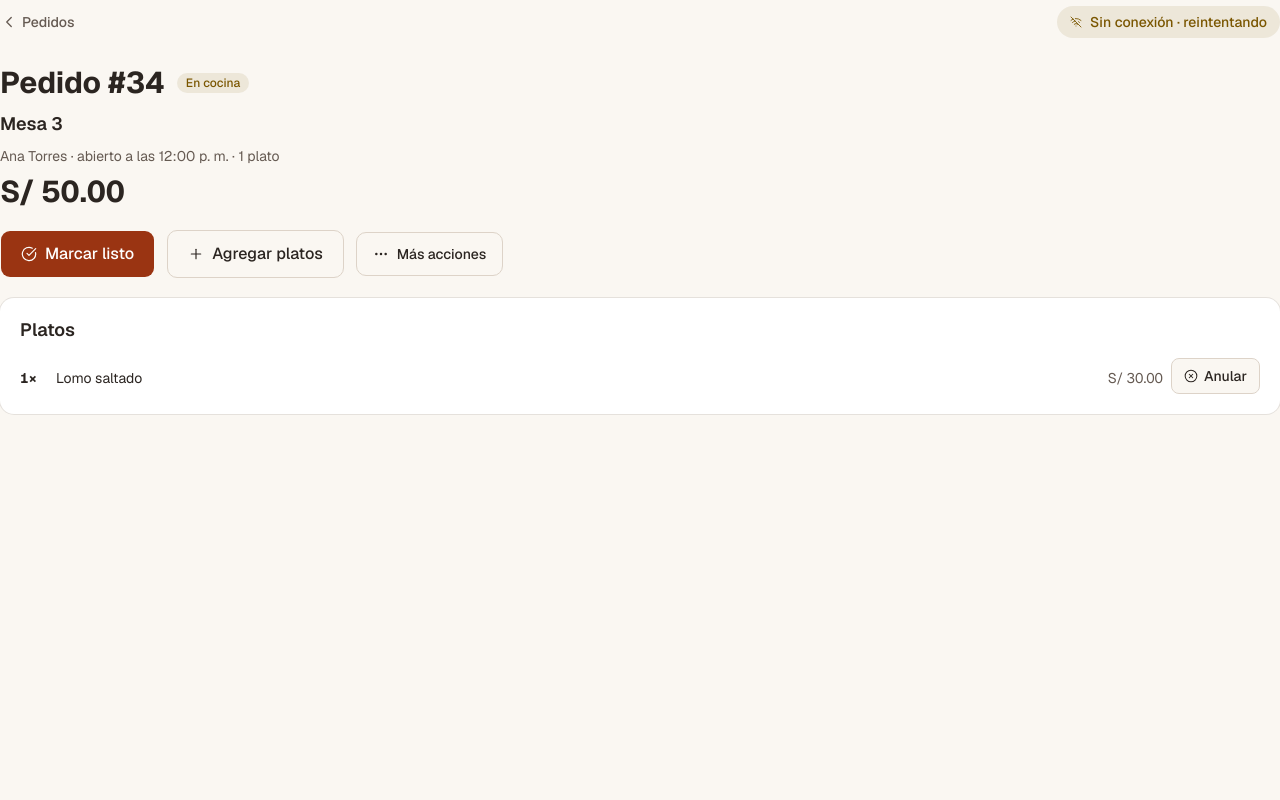
Test: detalle del pedido: anular un plato › al anular el último plato vigente sugiere cancelar el pedido
The width and height of the screenshot is (1280, 800).
Click the button with aria-label "Anular Lomo saltado" at (1216, 376), box [1171, 358, 1260, 394]
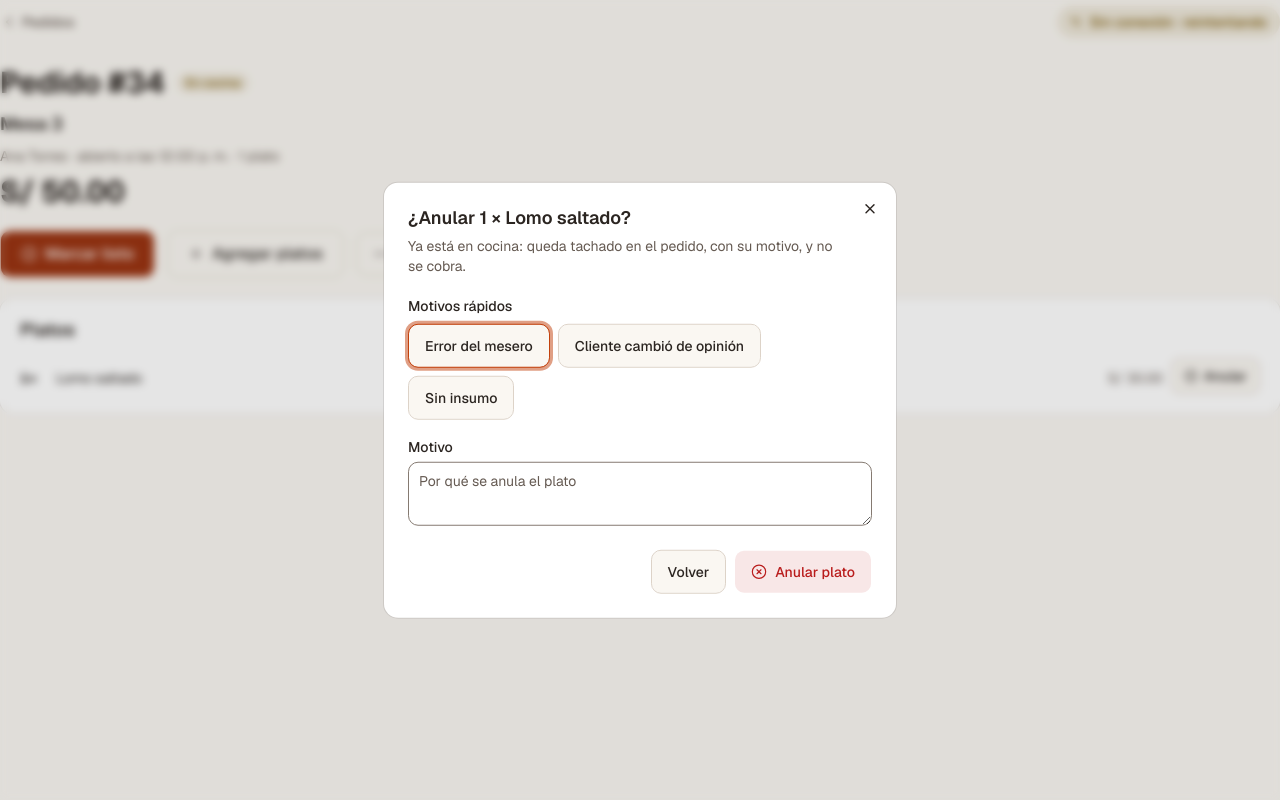
Click the button "Cliente cambió de opinión" at (660, 345), box [558, 323, 761, 367]
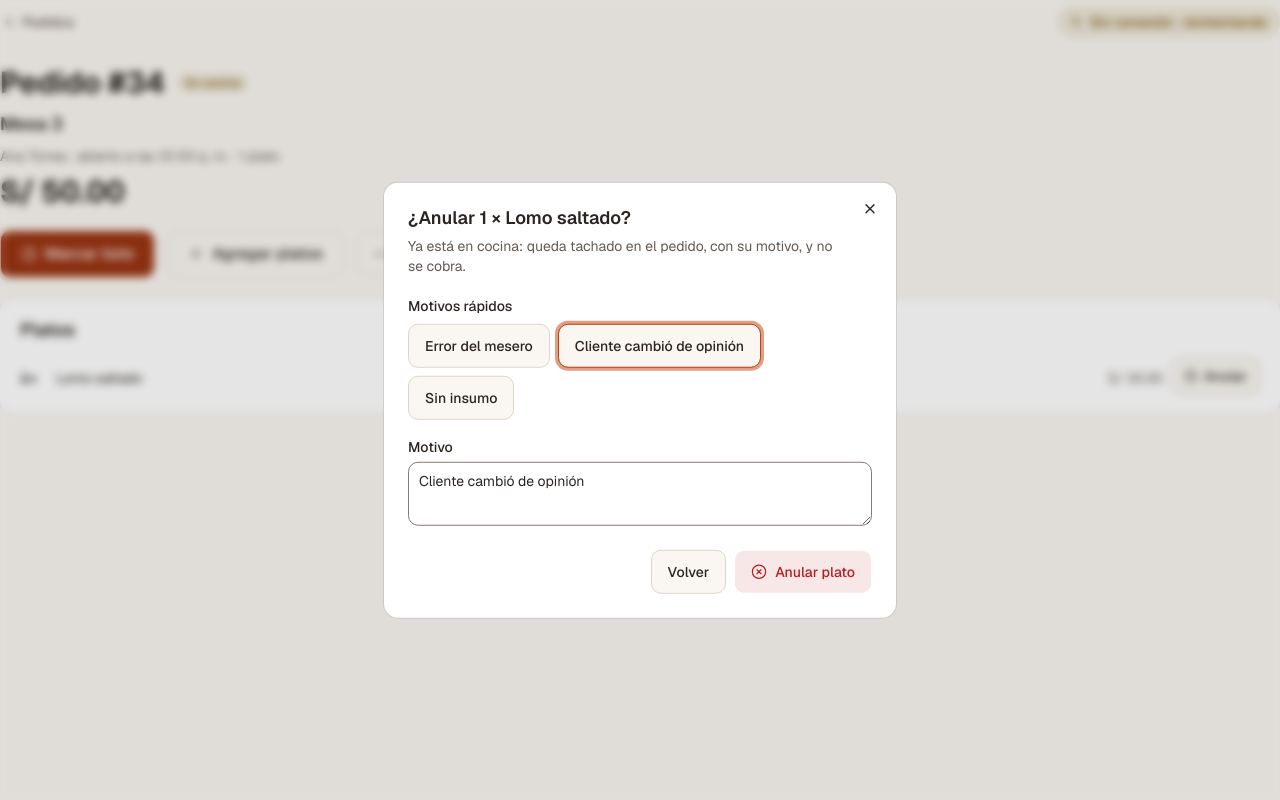
Click the button "Anular plato" at (803, 571), box [734, 549, 872, 593]
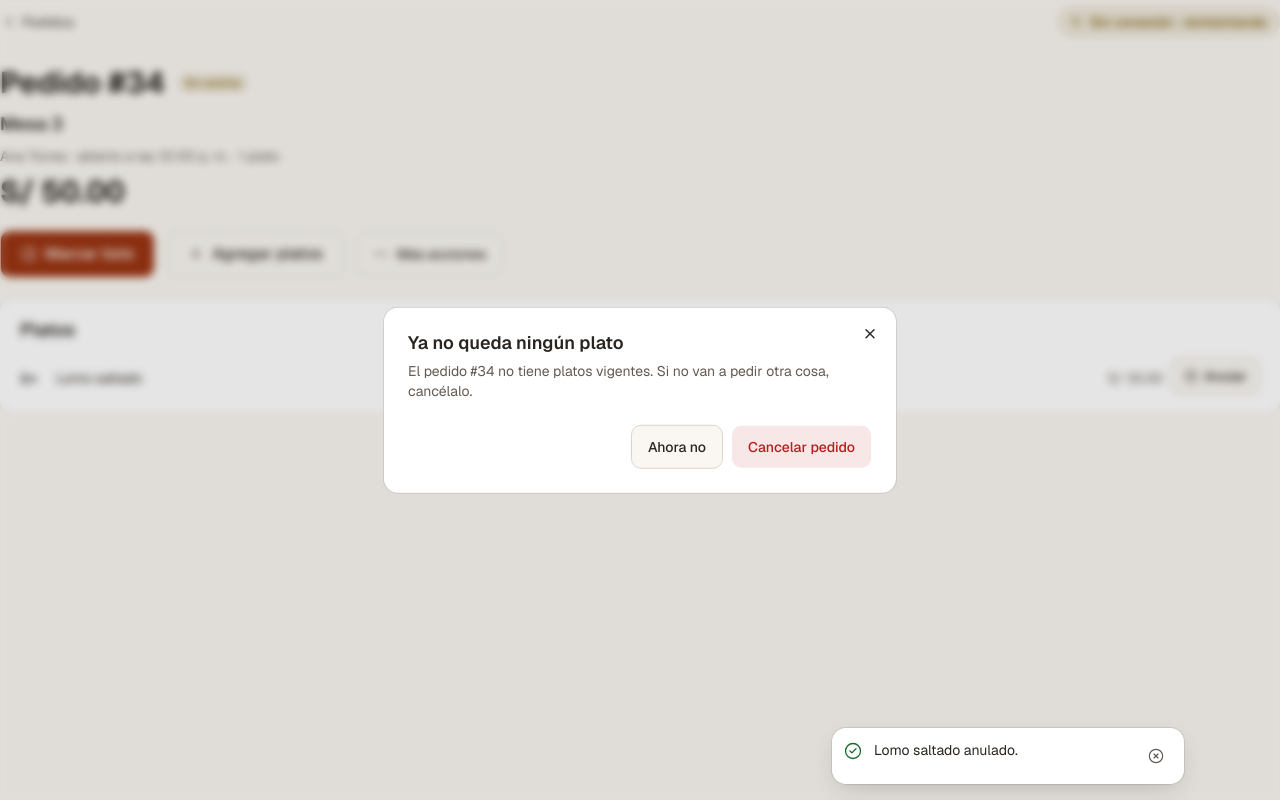
Click the button "Cancelar pedido" at (802, 446), box [731, 424, 872, 468]
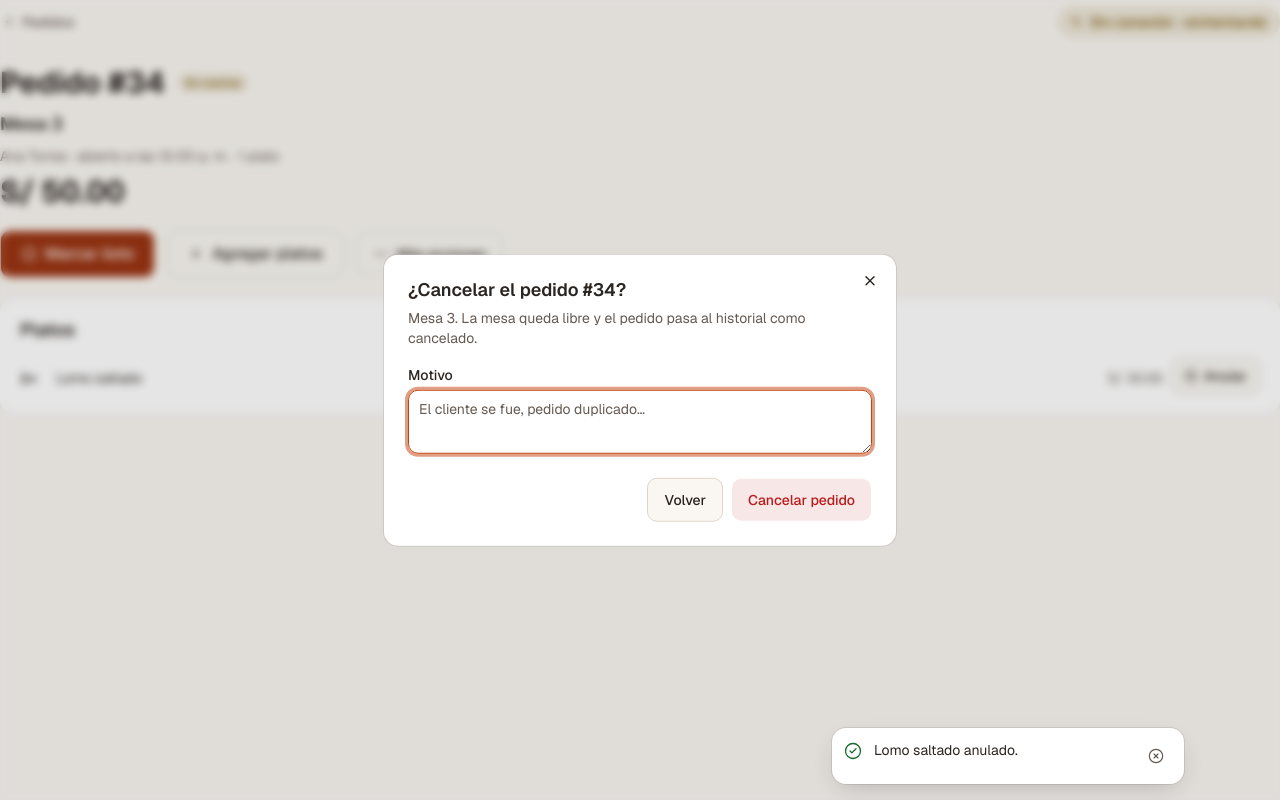
Now the dialog "¿Cancelar el pedido #34?" is shown, box [384, 255, 896, 545]
